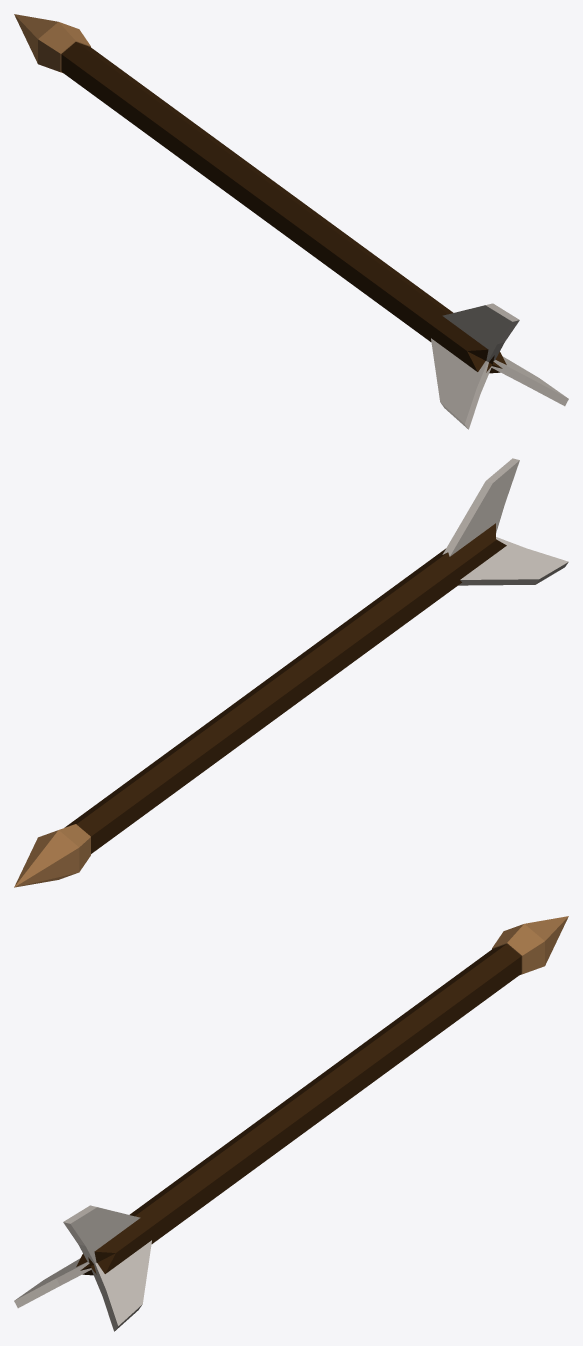
The model's file is arrowModel.fbx.
The picture shows the model from 3 angles, top to bottom: view 1: azimuth 30°, elevation 25°; view 2: azimuth 150°, elevation 25°; view 3: azimuth 330°, elevation 25°; orthographic projection.
Parts seen in each view (by area): view 1: arrowModel; view 2: arrowModel; view 3: arrowModel.
Part boxes in pixels (box(x1,y1,x2,y2)): arrowModel: box(14, 14, 568, 429); arrowModel: box(14, 458, 568, 887); arrowModel: box(14, 916, 568, 1331).
Bounding box in the file's own units: 0.2872 × 0.2549 × 2.4.
1 material, 1 textured.
